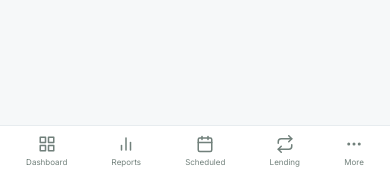
MobileNav › More menu › lists every remaining destination when opened
This screenshot has width=390, height=190.
Click the button "More": (354, 152) [336,132,372,171]
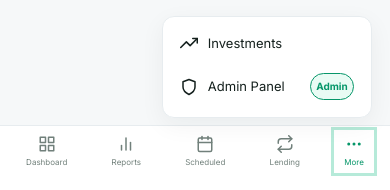
Expected: the button "More" is expanded, [336,132,372,171]
Expected: the number of menu items is 2, [180,34,282,52]; [180,73,354,100]
Expected: the text "Admin" is shown, [310,73,354,100]
